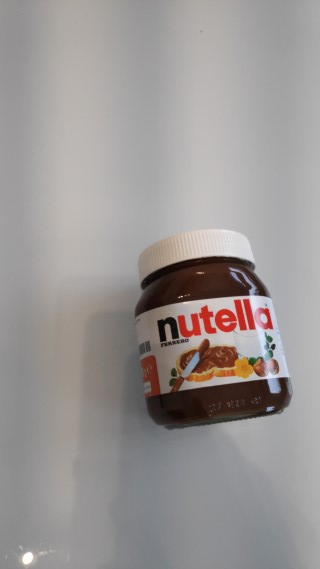nutella: (131, 226, 296, 432)
